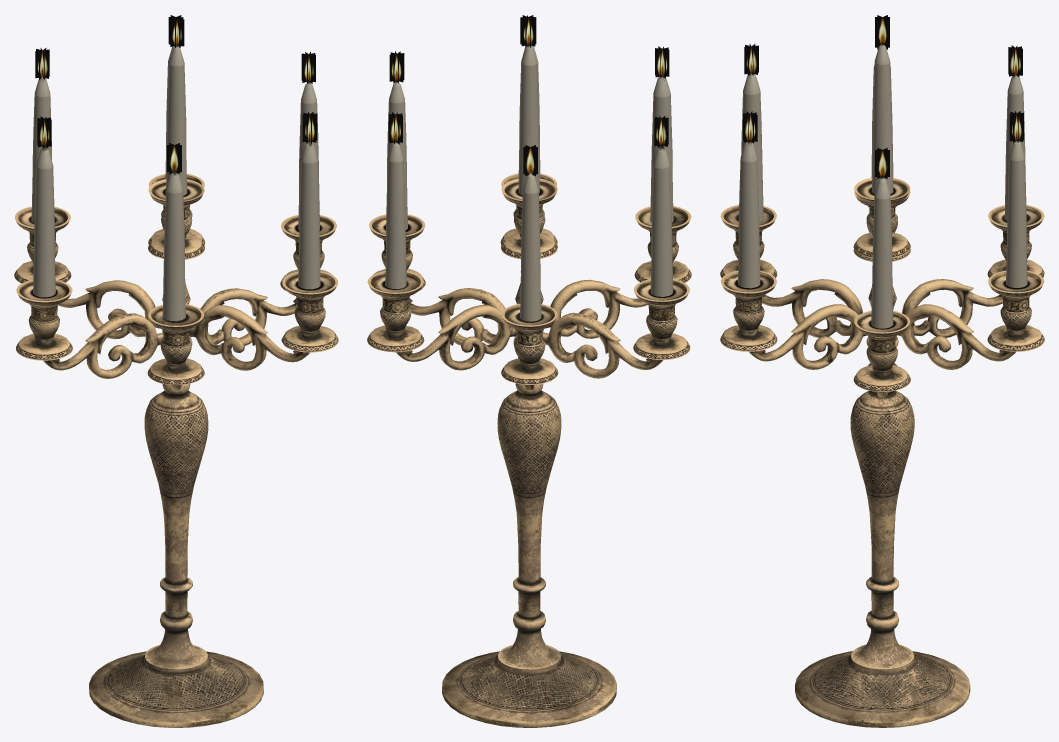
The model's file is candelabra.glb.
3 views of the same model, side by side, from view 1: azimuth 30°, elevation 25°; view 2: azimuth 150°, elevation 25°; view 3: azimuth 270°, elevation 25° (orthographic).
Parts seen in each view (by area): view 1: brass_candleholder_03; view 2: brass_candleholder_03; view 3: brass_candleholder_03.
Part boxes in pixels (bbox=[...]): brass_candleholder_03: bbox=[14, 15, 338, 727]; brass_candleholder_03: bbox=[367, 15, 691, 727]; brass_candleholder_03: bbox=[720, 15, 1044, 727].
Bounding box in the file's own units: 0.4083 × 0.8353 × 0.3646.
Materials: 2 (2 with a texture image).
